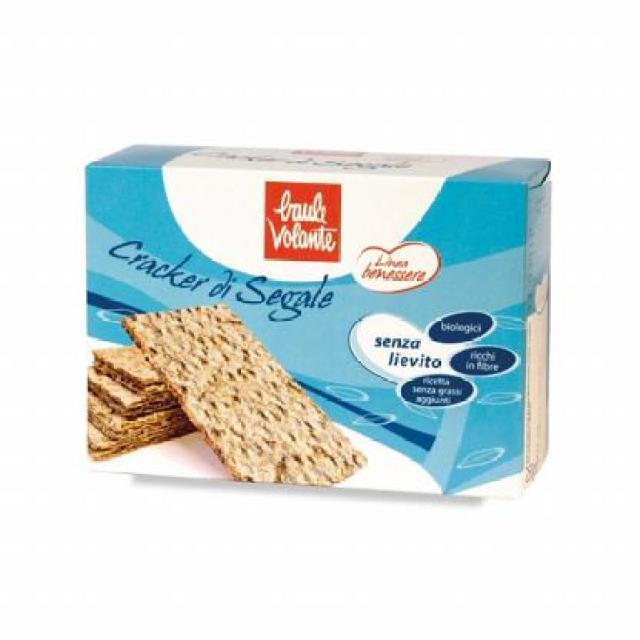Cracker: (67, 136, 567, 519)
